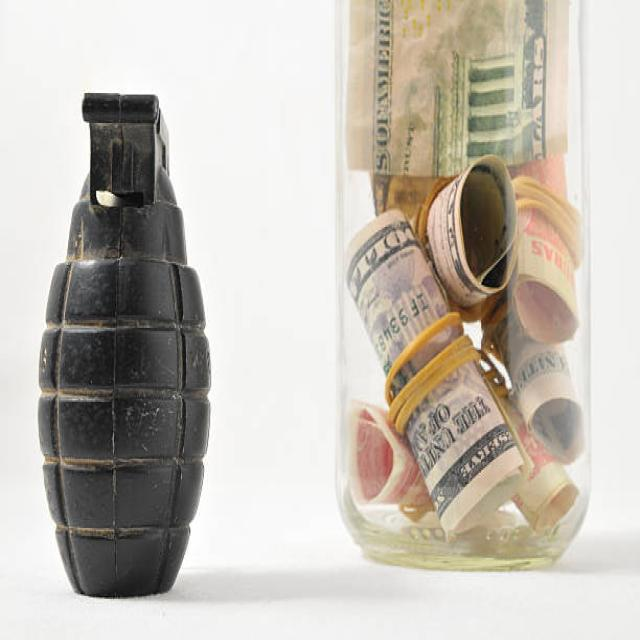grenade: (32, 80, 222, 610)
